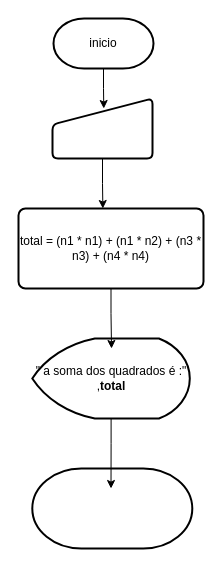
Some shapes in this 221 by 566 pixel diagram are drawn without their labels. The centre of each missing label's shape, as x and y in pixels:
"fim" goes at pixel 112 508.
"n1, n2, n3, n4" goes at pixel 102 128.
